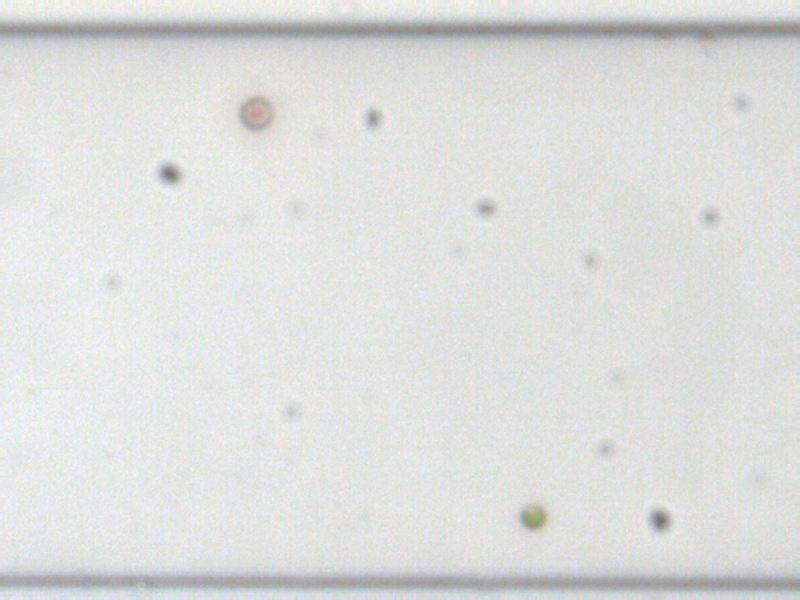Chlorella: (516, 503, 547, 529)
Porphyridium: (236, 94, 275, 132)
